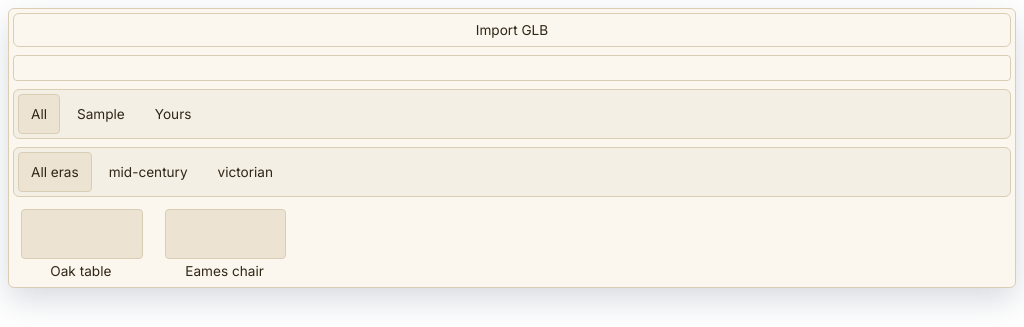
Scenario: LibraryPanel filtering › shows only user-scoped items when the source toggle is set to Yours
Expected: the button "Eames chair" is shown, [157,205,292,283]
Expected: the button "Oak table" is shown, [13,205,149,283]
What coordinates should you click on to do the following:
click the button "Yours"
I would click on:
 (173, 114)
Its box is [142,94,204,134].
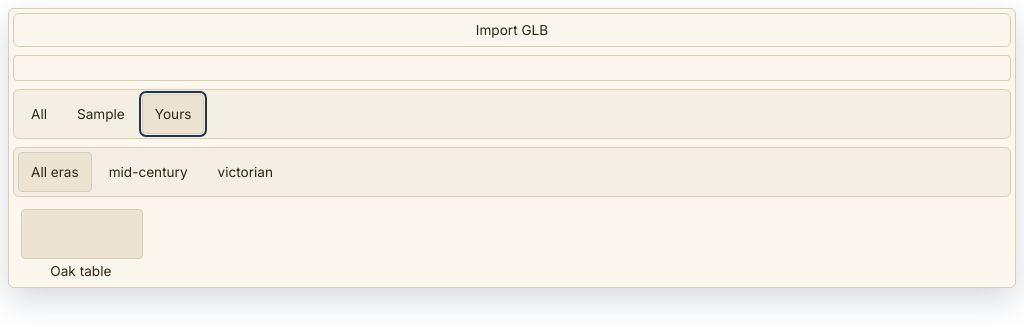
Expected: the button "Oak table" is shown, [13,205,149,283]
Now the button "Eames chair" is gone
